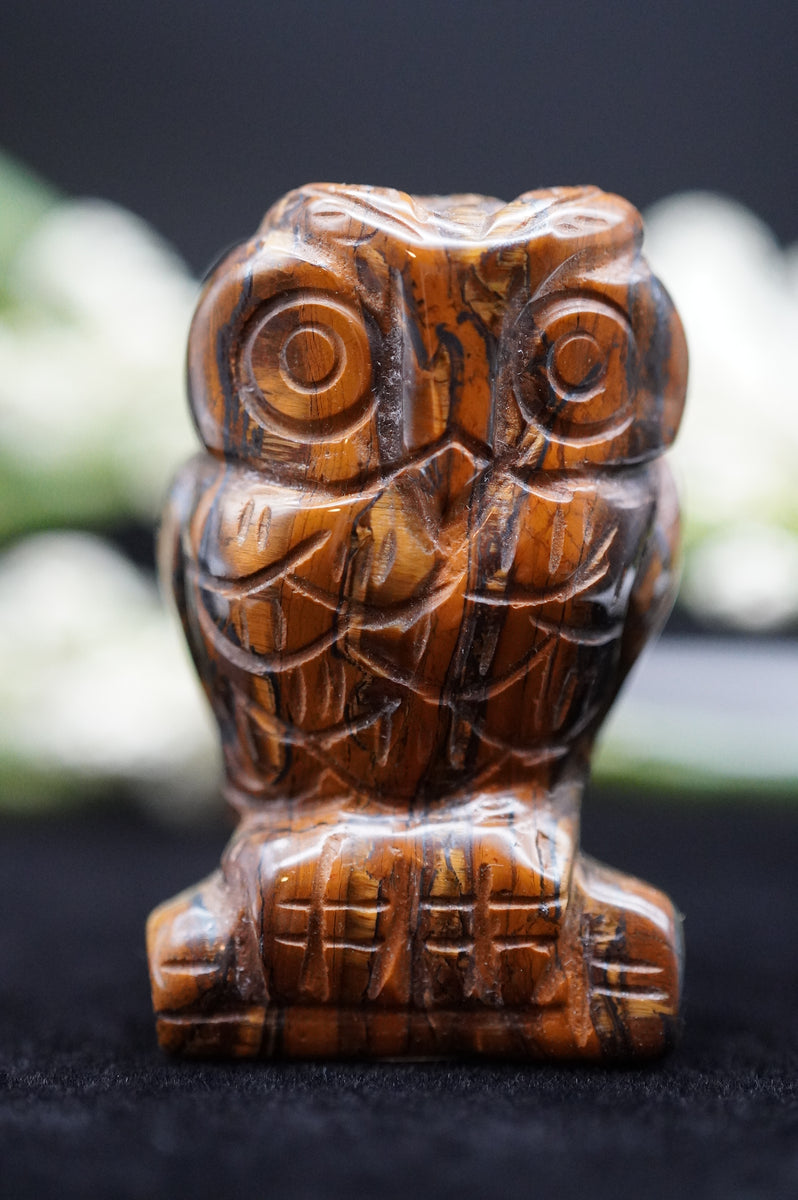Tigers_Eye: (139, 184, 698, 1053)
